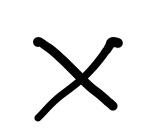mult: (32, 32, 120, 123)
